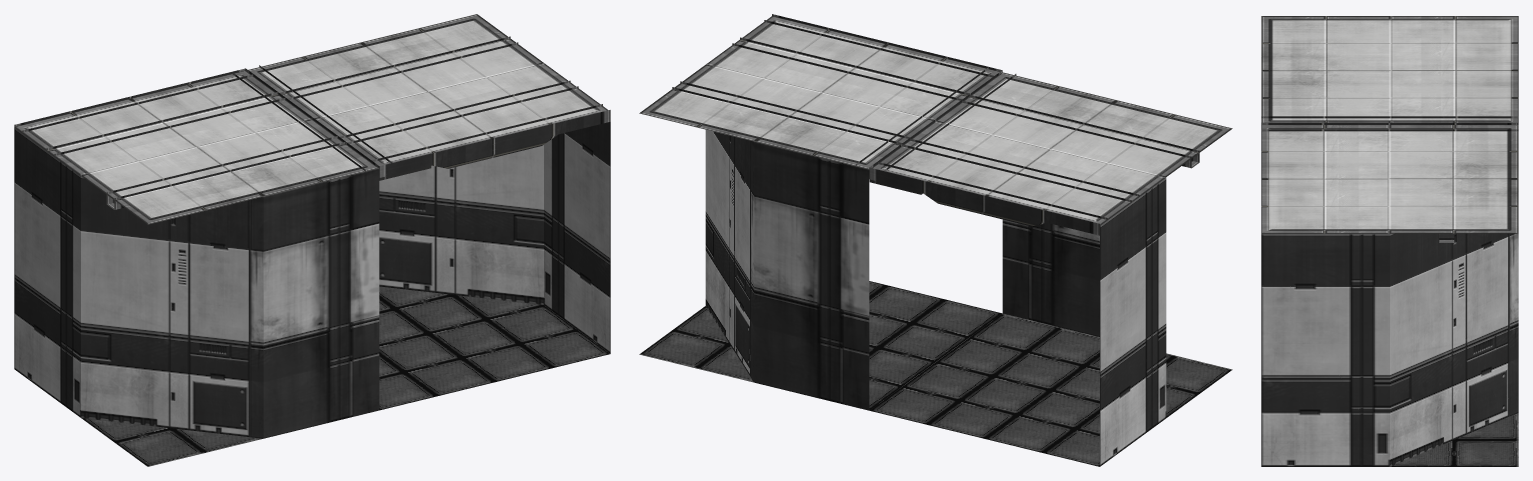
File: CorridorWallDiagonal2.fbx
3 renders of one model, left to right at view 1: azimuth 30°, elevation 25°; view 2: azimuth 150°, elevation 25°; view 3: azimuth 270°, elevation 25°, orthographic. The views are drawn at different scales.
Visible parts, largest first — view 1: CorridorWallDiagonal2; view 2: CorridorWallDiagonal2; view 3: CorridorWallDiagonal2.
Boxes of the visible parts, box(x1,y1,x2,y2) form: CorridorWallDiagonal2: box(14, 14, 610, 466); CorridorWallDiagonal2: box(639, 14, 1232, 466); CorridorWallDiagonal2: box(1261, 16, 1518, 466).
Bounding box in the file's own units: 10 × 5.04 × 5.
